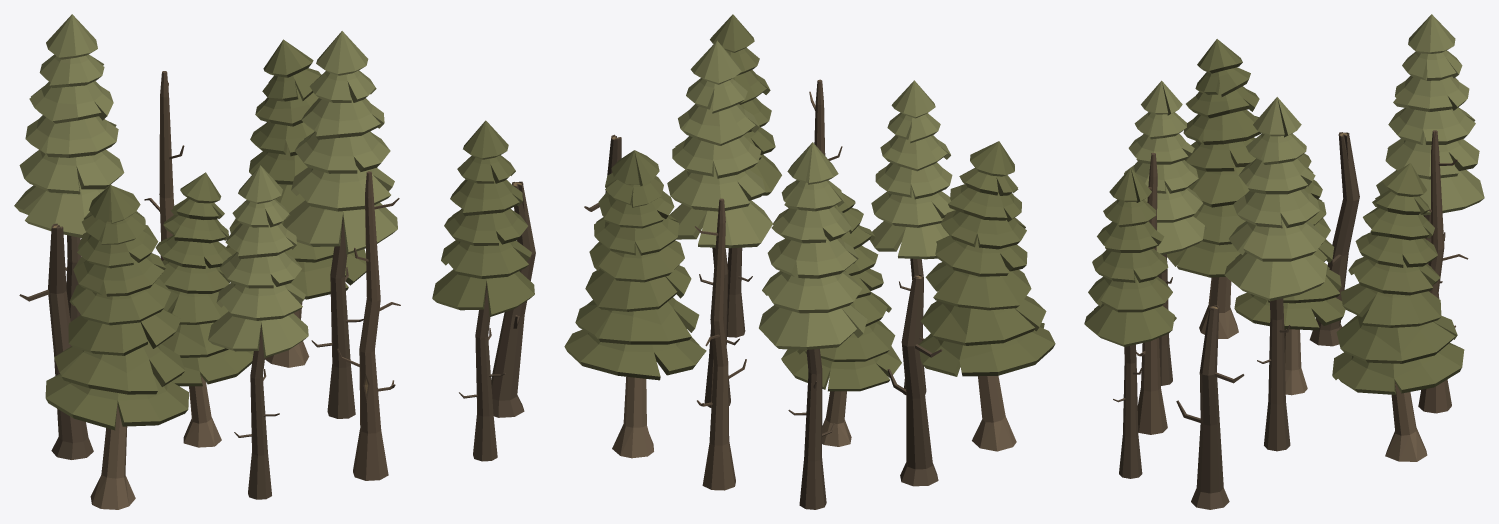
File: SM_Envr_Nature_Tree_Group_Pine_02.fbx
3 renders of one model, left to right at view 1: azimuth 30°, elevation 25°; view 2: azimuth 150°, elevation 25°; view 3: azimuth 270°, elevation 25°, orthographic. The views are drawn at different scales.
Visible parts, largest first — view 1: SM_Envr_Nature_Tree_Group_Pine_02; view 2: SM_Envr_Nature_Tree_Group_Pine_02; view 3: SM_Envr_Nature_Tree_Group_Pine_02.
Boxes of the visible parts, x1,y1,x2,y2 form: SM_Envr_Nature_Tree_Group_Pine_02: (14,14,535,509); SM_Envr_Nature_Tree_Group_Pine_02: (564,14,1055,509); SM_Envr_Nature_Tree_Group_Pine_02: (1084,14,1484,509).
Bounding box in the file's own units: 1689 × 1299 × 1347.
